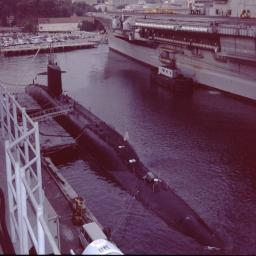submarine: (16, 40, 225, 250)
